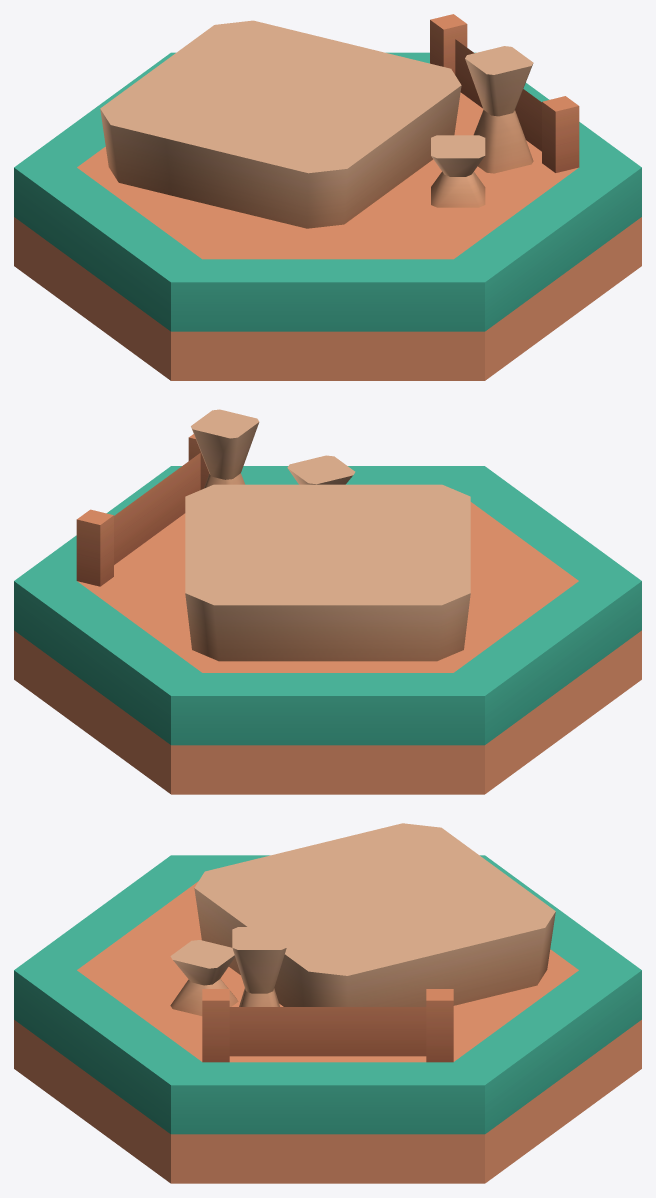
The model's file is kenney-hexagon-building-farm.glb.
3 views of the same model, one above another, from view 1: azimuth 30°, elevation 25°; view 2: azimuth 150°, elevation 25°; view 3: azimuth 270°, elevation 25° (orthographic).
Visible parts, largest first — view 1: building_farm; view 2: building_farm; view 3: building_farm.
Boxes of the visible parts, <box> form: building_farm: <box>14,14,641,380</box>; building_farm: <box>14,409,641,794</box>; building_farm: <box>14,823,641,1183</box>.
Size of the model in its own units: 1 by 0.3999 by 1.15.
Materials: 1 (1 with a texture image).
